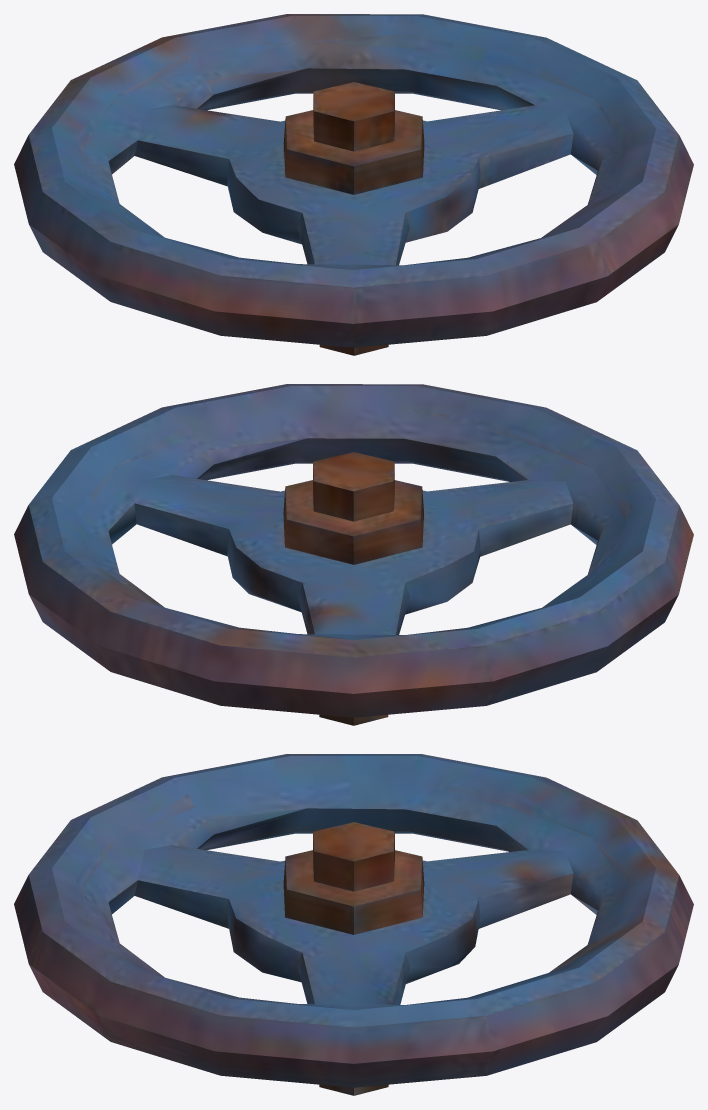
File: rusty_pipe_18.glb
The picture shows the model from 3 angles, top to bottom: view 1: azimuth 30°, elevation 25°; view 2: azimuth 150°, elevation 25°; view 3: azimuth 270°, elevation 25°; orthographic projection.
Visible parts, largest first — view 1: rusty_pipe_18; view 2: rusty_pipe_18; view 3: rusty_pipe_18.
Boxes of the visible parts, <box> form: rusty_pipe_18: <box>14,14,693,355</box>; rusty_pipe_18: <box>14,384,693,725</box>; rusty_pipe_18: <box>14,754,693,1095</box>.
Size of what is drawn, in the model's own units: 0.0379 by 0.0147 by 0.0381.
1 material, 1 textured.
